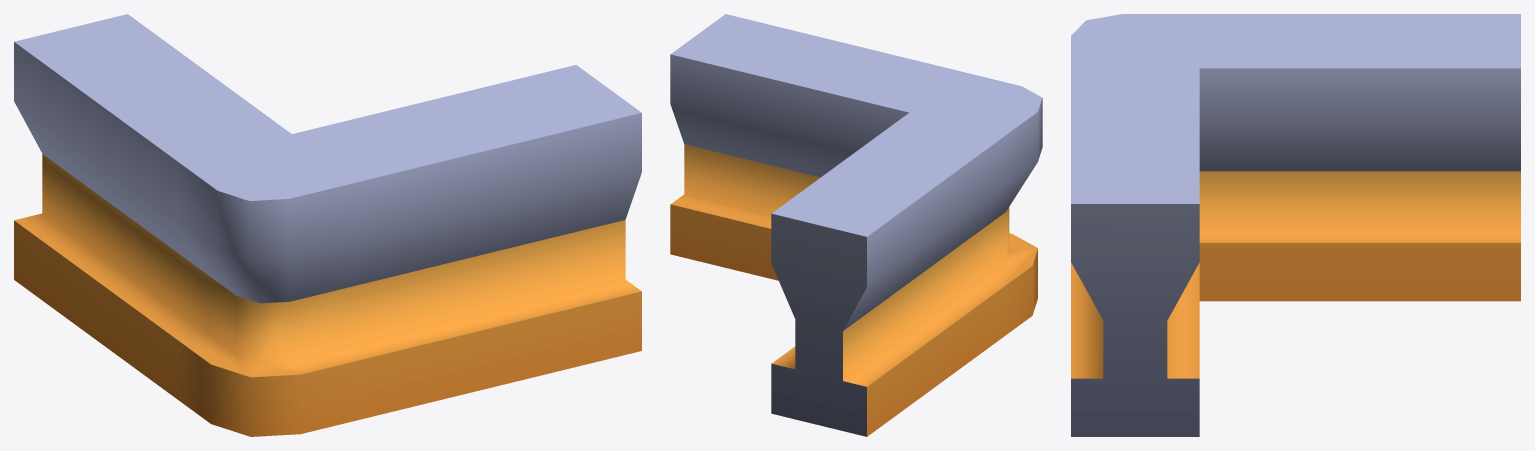
Rendered from kenney-space-station-balcony-rail-corner.glb.
3 renders of one model, left to right at view 1: azimuth 30°, elevation 25°; view 2: azimuth 150°, elevation 25°; view 3: azimuth 270°, elevation 25°, orthographic. The views are drawn at different scales.
Parts seen in each view (by area): view 1: balcony-rail-corner; view 2: balcony-rail-corner; view 3: balcony-rail-corner.
Part boxes in pixels (x1,y1,x2,y2): balcony-rail-corner: (14, 14, 641, 436); balcony-rail-corner: (670, 14, 1042, 436); balcony-rail-corner: (1071, 14, 1520, 436).
Bounding box in the file's own units: 0.7 × 0.4 × 0.7.
Materials: 1 (1 with a texture image).
